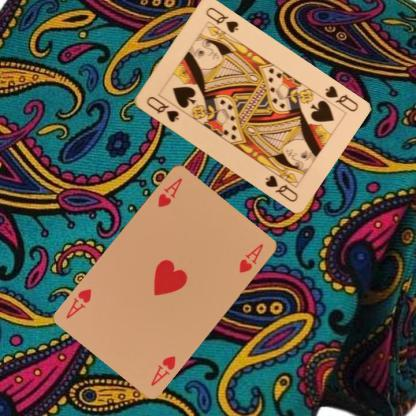Ah: (155, 174, 184, 208), (148, 353, 177, 387)
Qs: (143, 94, 180, 124), (322, 83, 359, 113)
